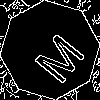M: (25, 25, 87, 87)
